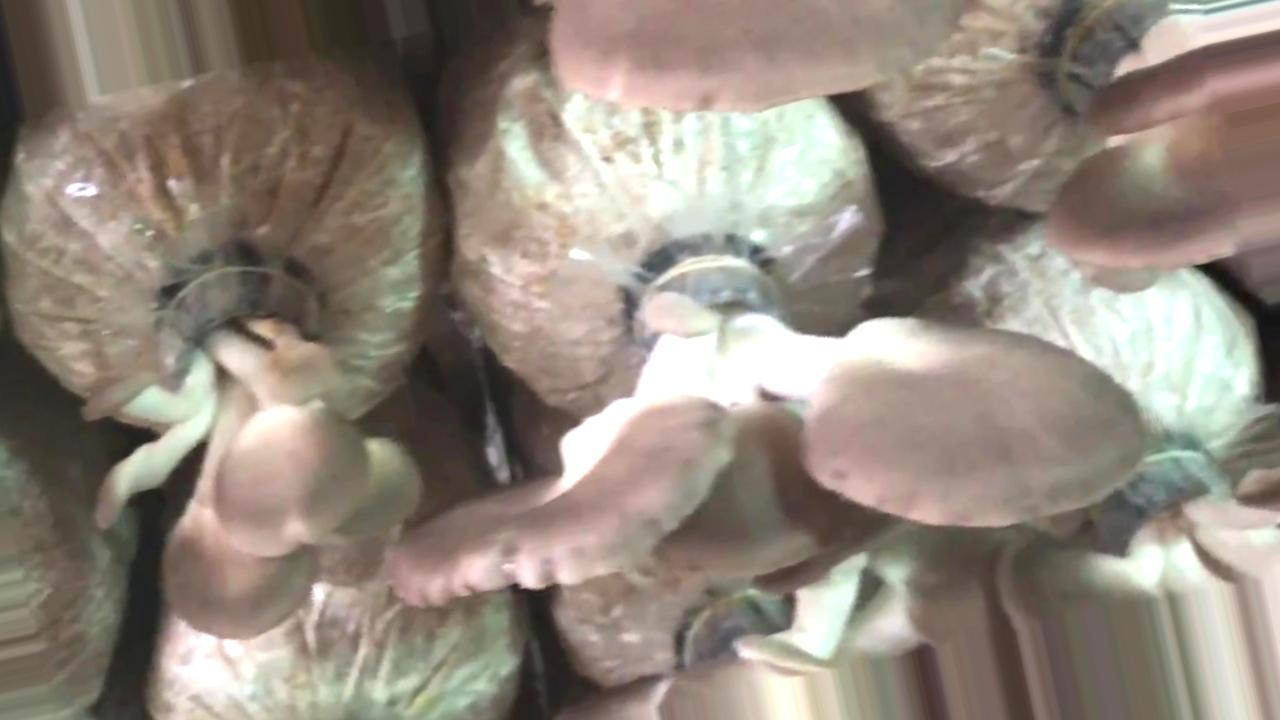nam: (385, 227, 1152, 610), (91, 255, 418, 646), (1060, 1, 1275, 292), (543, 2, 957, 107)
